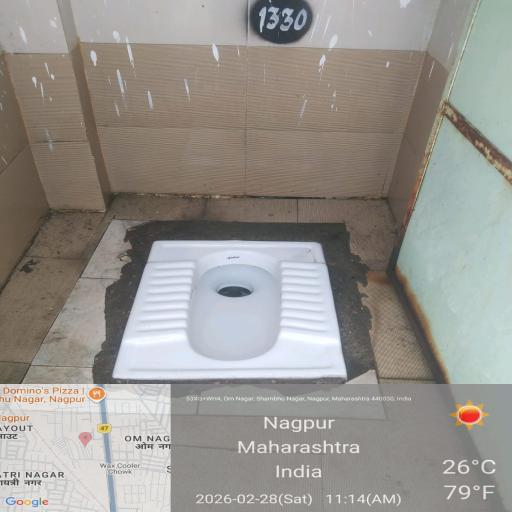clean_floor: (0, 11, 460, 200), (28, 402, 512, 510)
clean_indian: (66, 201, 408, 401)
